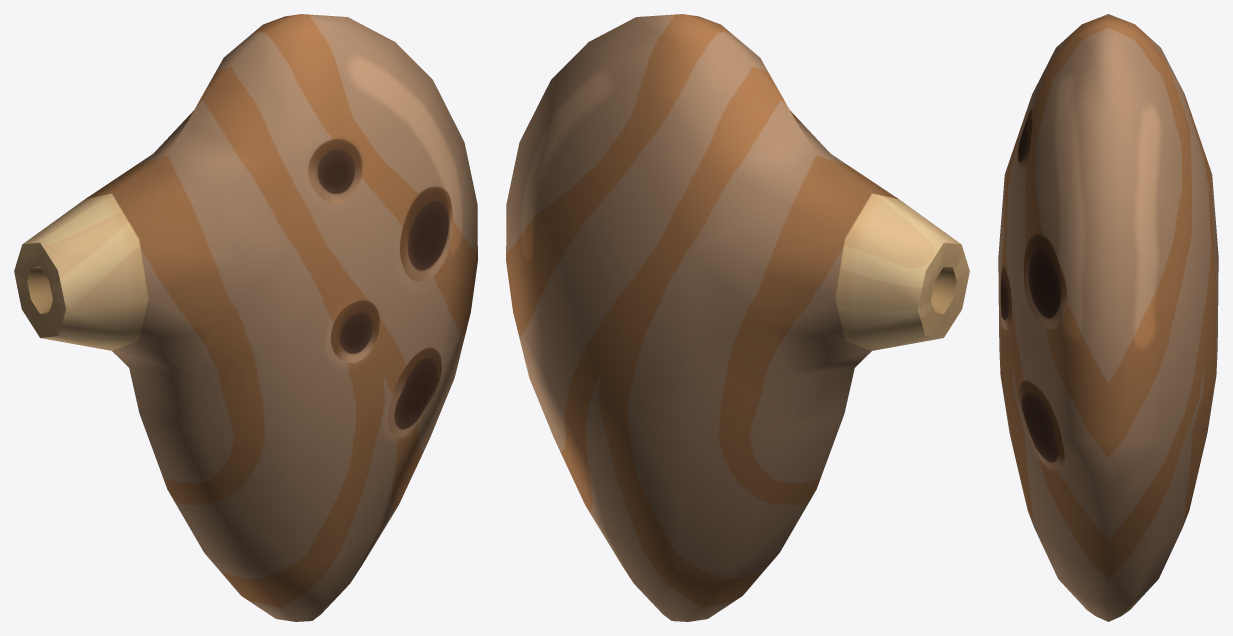
Rendered from Flute.glb.
The picture shows the model from 3 angles, left to right: view 1: azimuth 30°, elevation 25°; view 2: azimuth 150°, elevation 25°; view 3: azimuth 270°, elevation 25°; orthographic projection.
Parts seen in each view (by area): view 1: SM_Flute_lv1; view 2: SM_Flute_lv1; view 3: SM_Flute_lv1.
Part boxes in pixels (x1=…): SM_Flute_lv1: x1=14, y1=14, x2=477, y2=621; SM_Flute_lv1: x1=506, y1=14, x2=969, y2=621; SM_Flute_lv1: x1=998, y1=14, x2=1218, y2=621.
Bounding box in the file's own units: 0.6828 × 0.9013 × 0.3031.
Materials: 1 (1 with a texture image).
